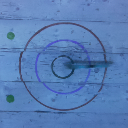Axe Tip: (64, 63, 77, 65)
